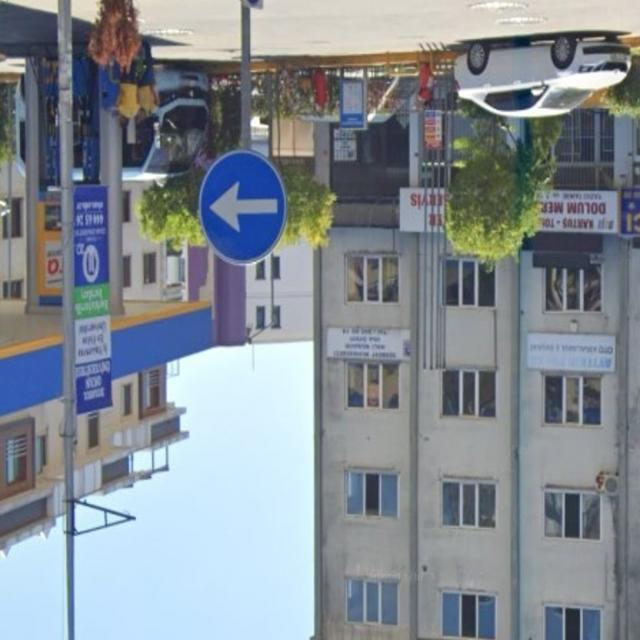Turn Left: (198, 151, 292, 269)
